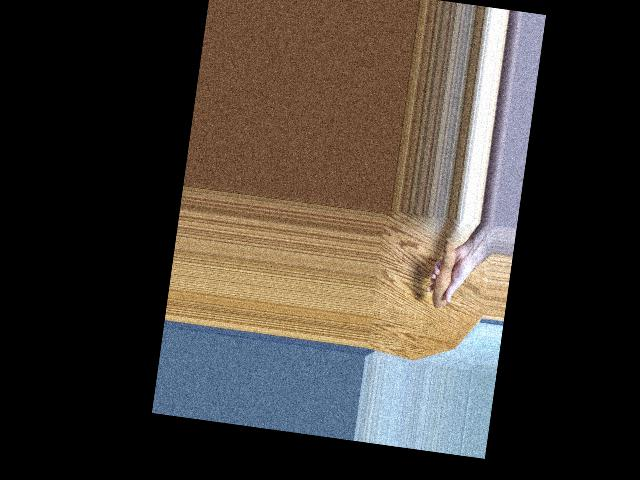sweet_potato: (427, 233, 466, 317)
